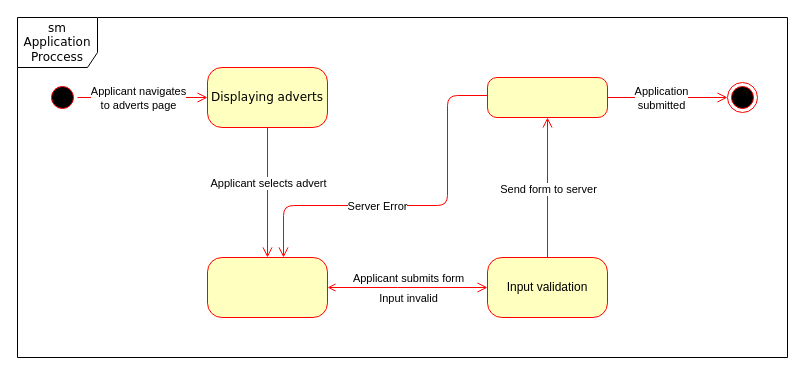
Image size: 805x375. Some labels were removed from this diagram. Here are the shapes that lost their labels. From the top down, the centre of each, then its label:
point (547, 97): Awaiting server response
point (267, 287): Waiting for application form submistion
